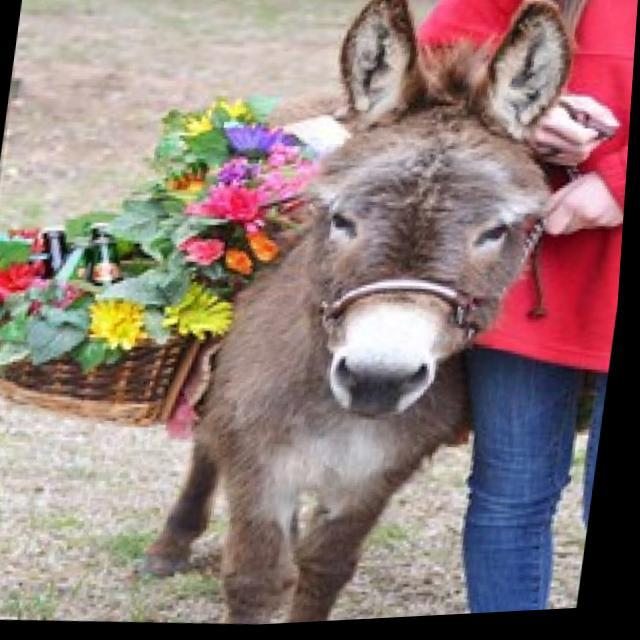Donkey: (138, 0, 621, 633)
